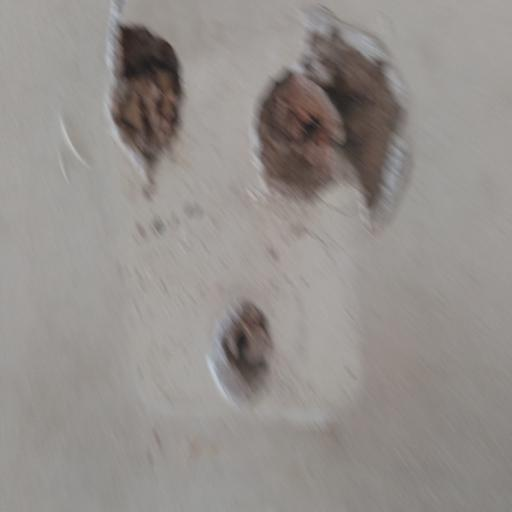spalling: (239, 12, 422, 251), (89, 12, 200, 199), (178, 278, 296, 413)
